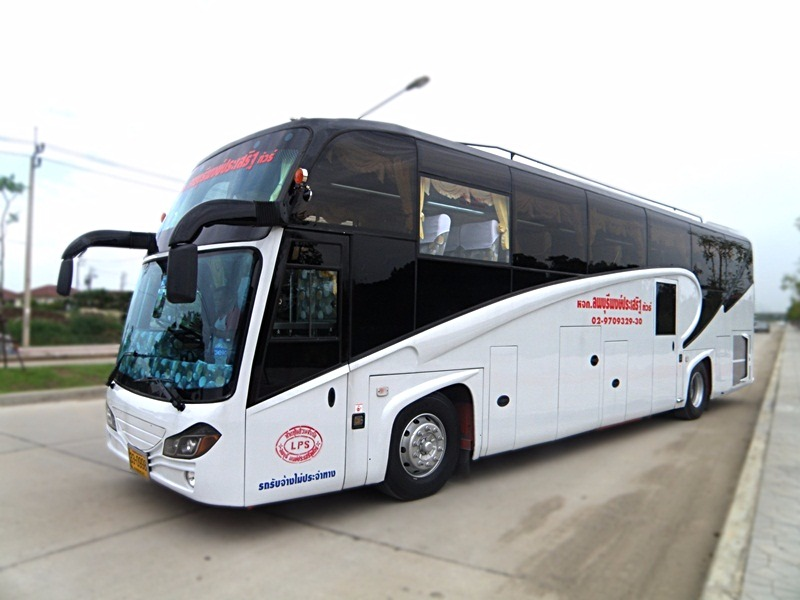bus: (101, 117, 753, 510)
